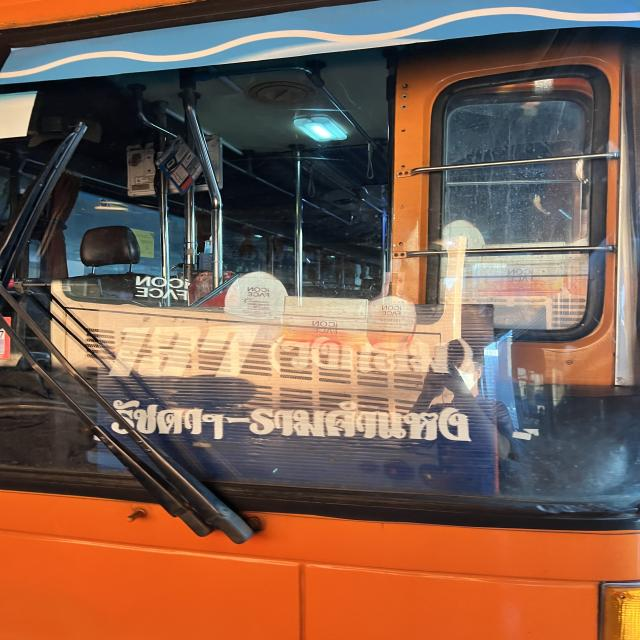BMTA-bus: (0, 0, 640, 640)
Destination-Sign-Normal: (100, 308, 494, 495)
